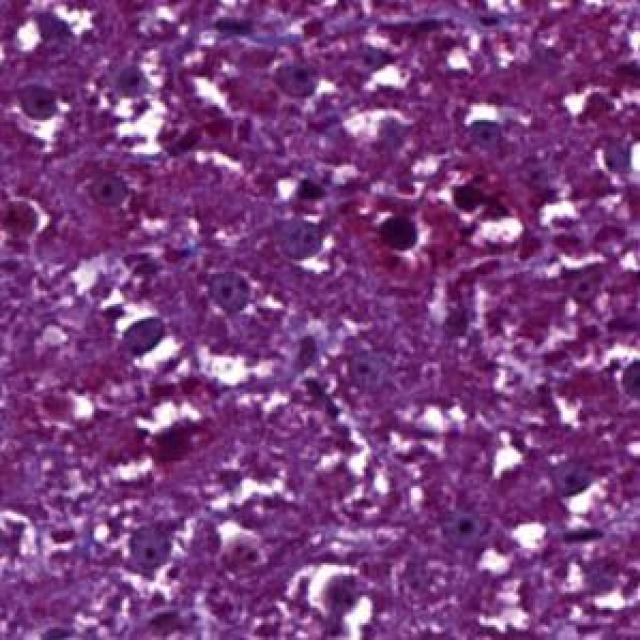inflammation: (432, 180, 524, 250), (107, 300, 186, 370), (299, 556, 376, 623), (8, 81, 84, 146), (15, 0, 94, 60), (345, 107, 413, 165), (550, 449, 608, 512)
